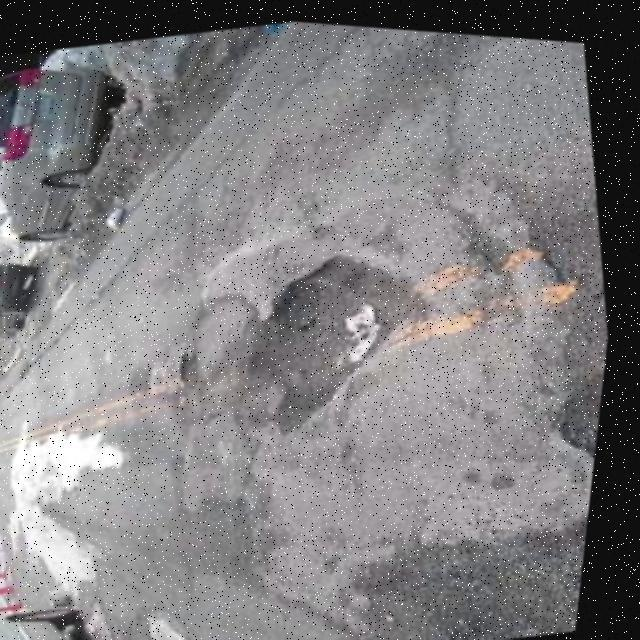pothole: (211, 227, 457, 450), (178, 343, 216, 389)
